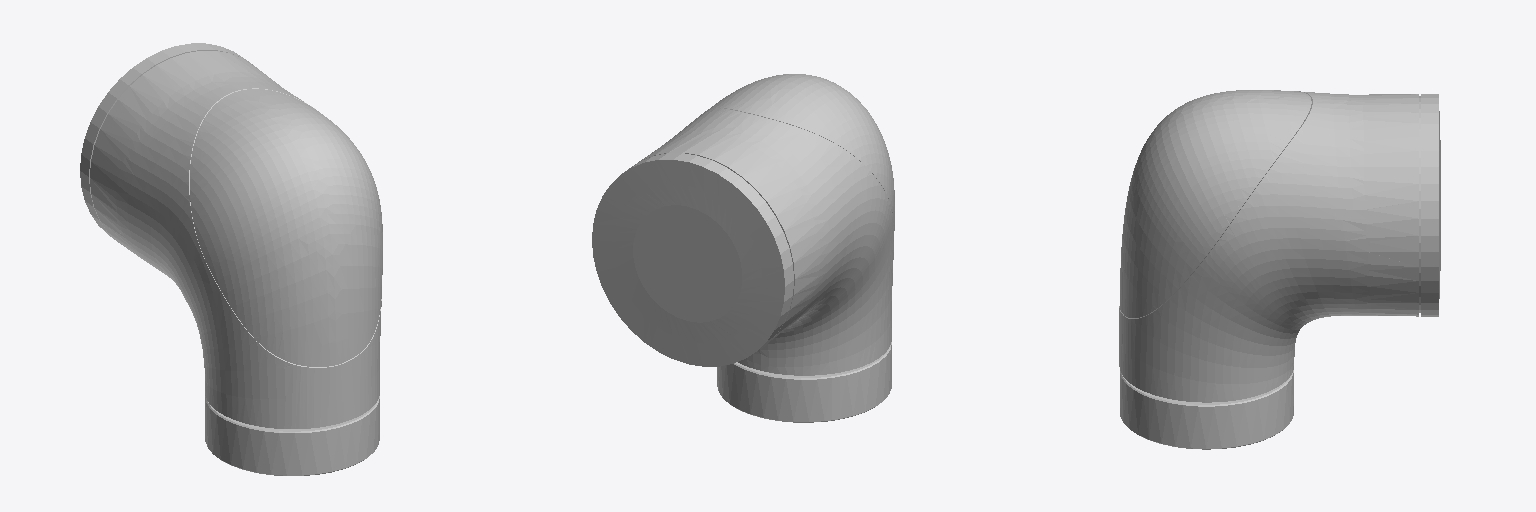
The model's file is right_l1_visuals.obj.
3 renders of one model, left to right at view 1: azimuth 30°, elevation 25°; view 2: azimuth 150°, elevation 25°; view 3: azimuth 270°, elevation 25°, orthographic.
Bounding box in the file's own units: 0.136 × 0.2115 × 0.1958.